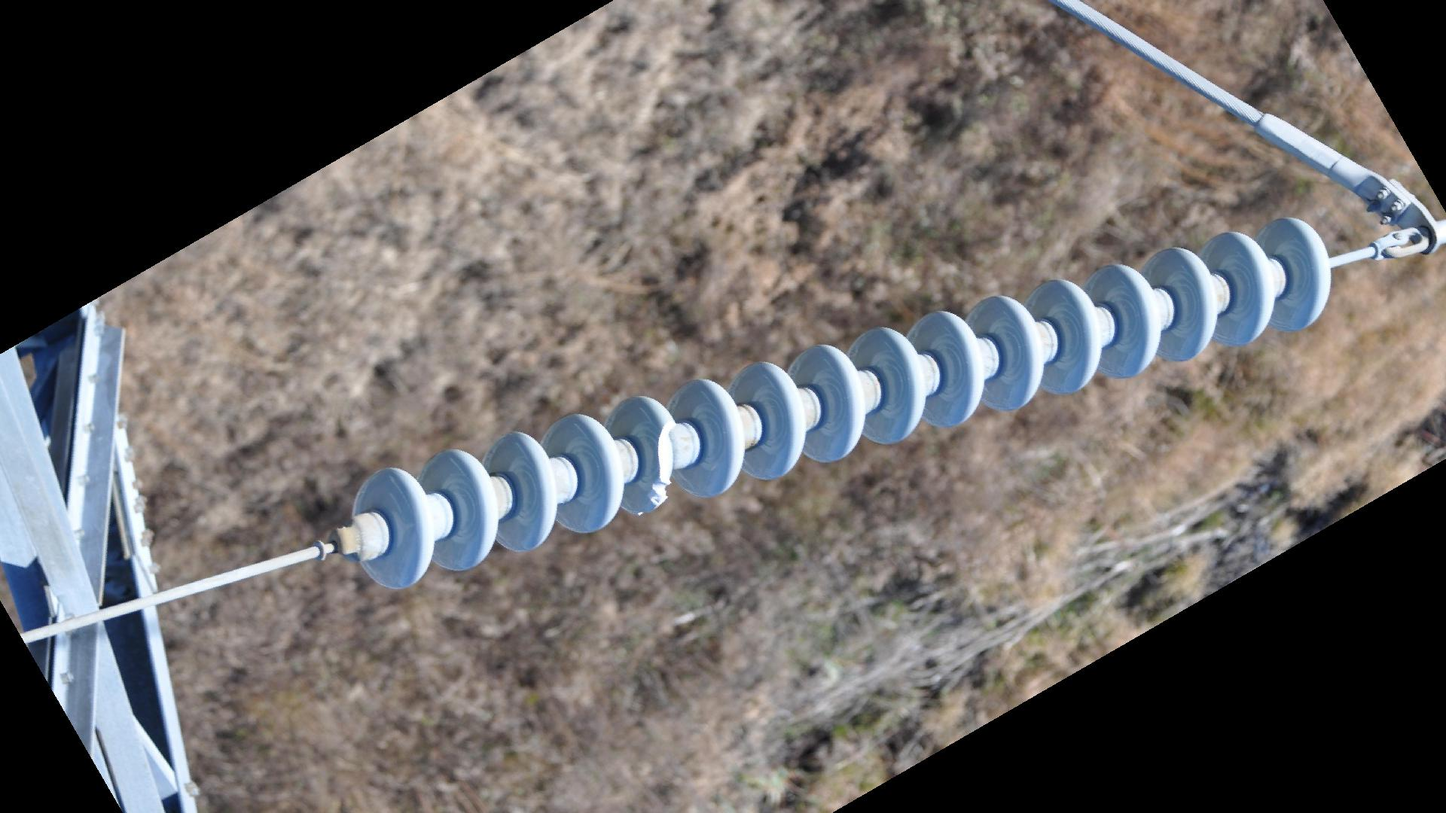insulator: (346, 207, 1337, 595)
insulator_breakage: (633, 416, 681, 522)
